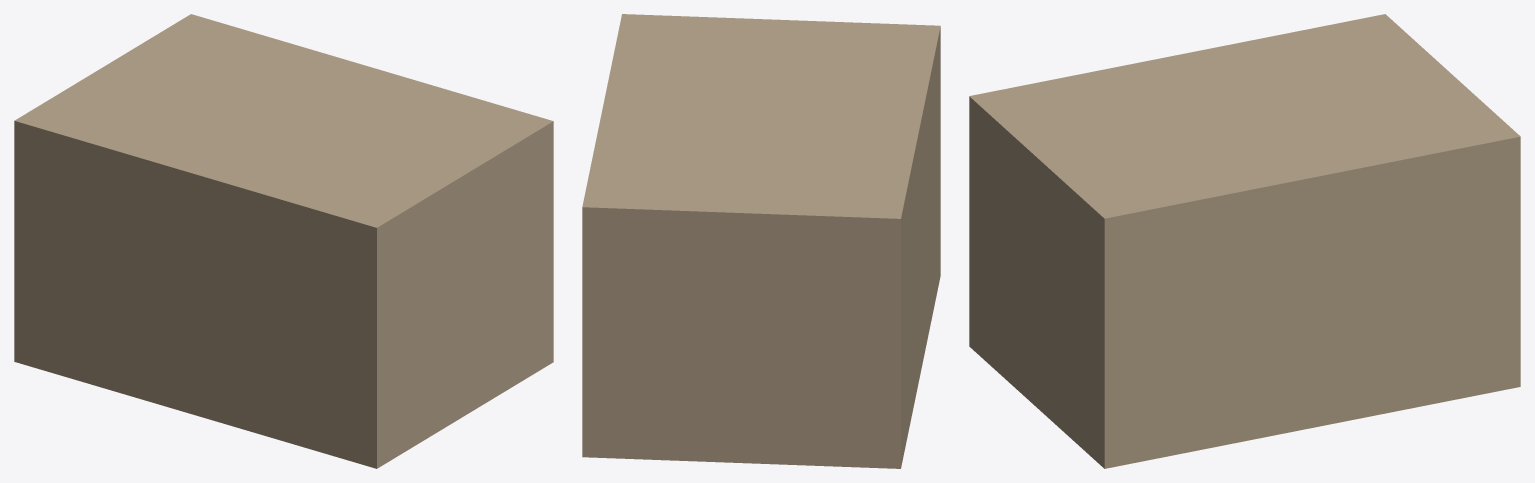
File: bld_106415206.dae
3 views of the same model, side by side, from view 1: azimuth 30°, elevation 25°; view 2: azimuth 150°, elevation 25°; view 3: azimuth 270°, elevation 25° (orthographic). The views are drawn at different scales.
Visible parts, largest first — view 1: bld_106415206; view 2: bld_106415206; view 3: bld_106415206.
Part boxes in pixels (box(x1,y1,x2,y2)): bld_106415206: box(14, 14, 553, 468); bld_106415206: box(582, 14, 940, 468); bld_106415206: box(969, 14, 1520, 468).
Size of the model in its own units: 14.04 by 15.98 by 8.
